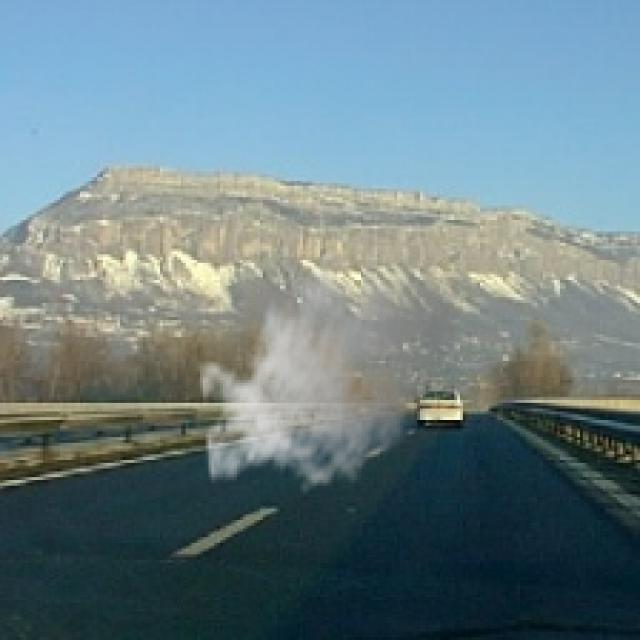smoke: (197, 229, 463, 497)
